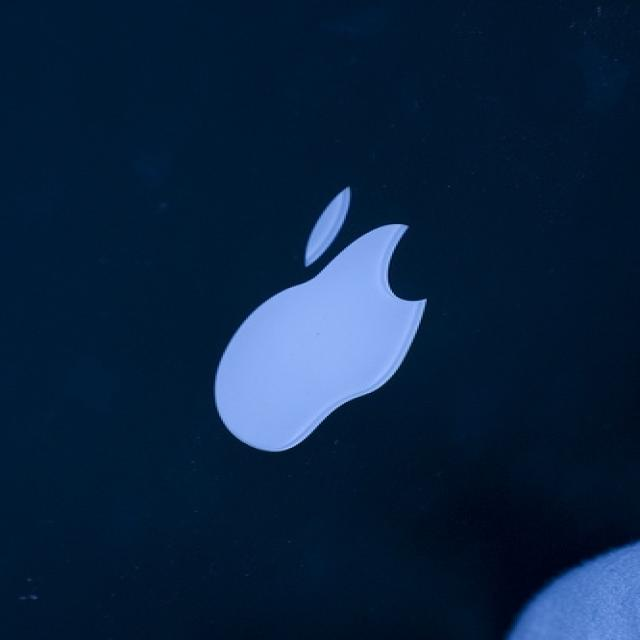apple: (201, 185, 439, 462)
